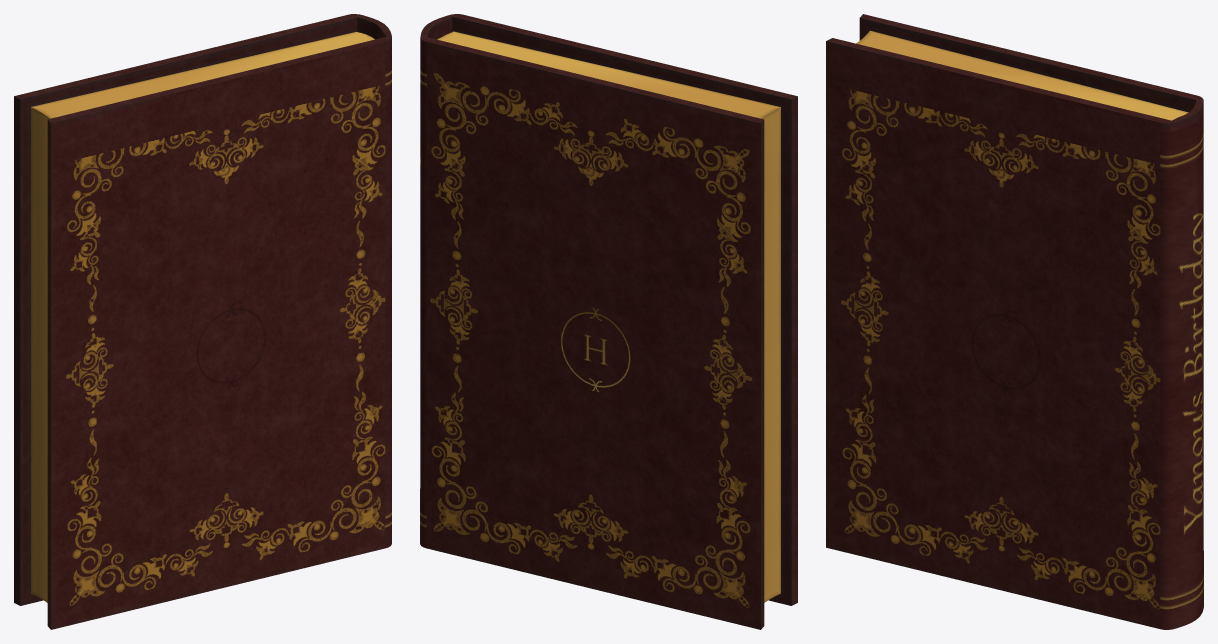
Rendered from vintage_book_retextured.glb.
3 views of the same model, side by side, from view 1: azimuth 30°, elevation 25°; view 2: azimuth 150°, elevation 25°; view 3: azimuth 330°, elevation 25° (orthographic).
Parts seen in each view (by area): view 1: SM_book_1_0; view 2: SM_book_1_0; view 3: SM_book_1_0.
Part boxes in pixels (<box>): SM_book_1_0: <box>14,14,391,629</box>; SM_book_1_0: <box>420,14,797,629</box>; SM_book_1_0: <box>826,14,1203,629</box>.
Size of the model in its own units: 0.2044 by 0.2813 by 0.0373.
Materials: 1 (1 with a texture image).
